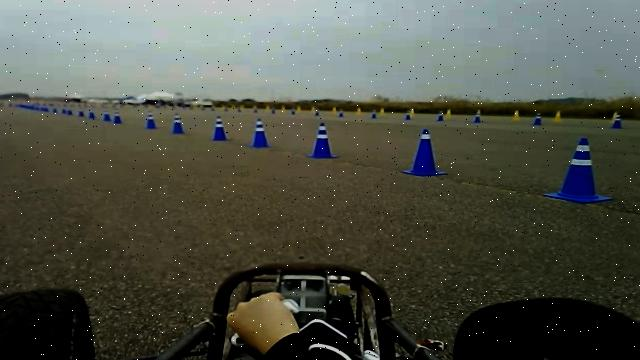blue cone: (543, 137, 613, 203), (401, 128, 448, 176), (306, 122, 338, 158), (250, 118, 270, 148), (212, 115, 228, 141), (172, 113, 185, 134), (146, 112, 157, 129), (612, 114, 623, 128), (532, 113, 542, 125), (88, 103, 96, 118), (78, 105, 85, 122), (102, 108, 111, 121), (114, 110, 122, 123), (472, 112, 481, 123), (366, 109, 375, 120), (437, 110, 445, 122), (404, 110, 412, 120)
yellow cone: (378, 106, 388, 118), (554, 110, 562, 122), (513, 109, 520, 121), (446, 108, 452, 117), (476, 108, 482, 116), (410, 108, 416, 115)
